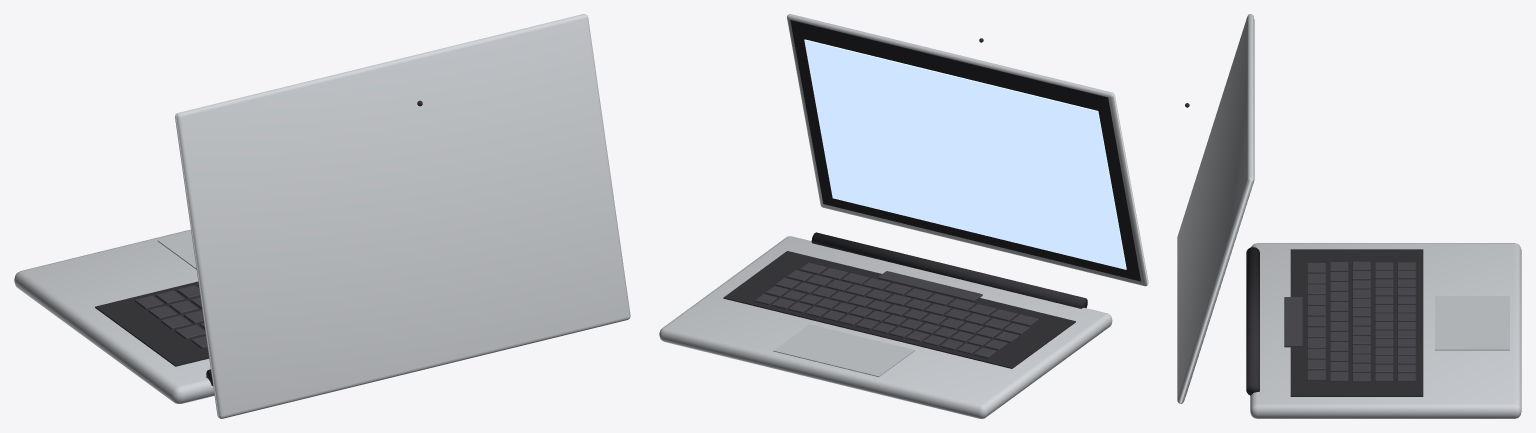
The model's file is laptop.glb.
3 views of the same model, side by side, from view 1: azimuth 30°, elevation 25°; view 2: azimuth 150°, elevation 25°; view 3: azimuth 270°, elevation 25° (orthographic). The views are drawn at different scales.
Parts seen in each view (by area): view 1: EX_hq:laptop-aluminium, EX_hq:laptop-bezel, EX_hq:laptop-tuts, EX_hq:touchpad; view 2: EX_unri:layar-emisif, EX_hq:laptop-aluminium, EX_hq:laptop-bezel, EX_hq:laptop-tuts, EX_hq:touchpad; view 3: EX_hq:laptop-aluminium, EX_hq:laptop-tuts, EX_hq:laptop-bezel, EX_hq:touchpad.
Part boxes in pixels (x1,y1,x2,y2): EX_hq:laptop-aluminium: (14,14,630,418); EX_hq:laptop-bezel: (95,100,422,385); EX_hq:laptop-tuts: (134,285,207,348); EX_hq:touchpad: (157,232,196,269); EX_unri:layar-emisif: (804,39,1126,269); EX_hq:laptop-aluminium: (659,14,1148,418); EX_hq:laptop-bezel: (723,20,1140,368); EX_hq:laptop-tuts: (755,262,1038,358); EX_hq:touchpad: (773,324,915,376); EX_hq:laptop-aluminium: (1177,14,1521,418); EX_hq:laptop-tuts: (1284,261,1415,382); EX_hq:laptop-bezel: (1185,19,1423,396); EX_hq:touchpad: (1435,296,1509,350).
Bounding box in the file's own units: 0.34 × 0.2319 × 0.2981.
